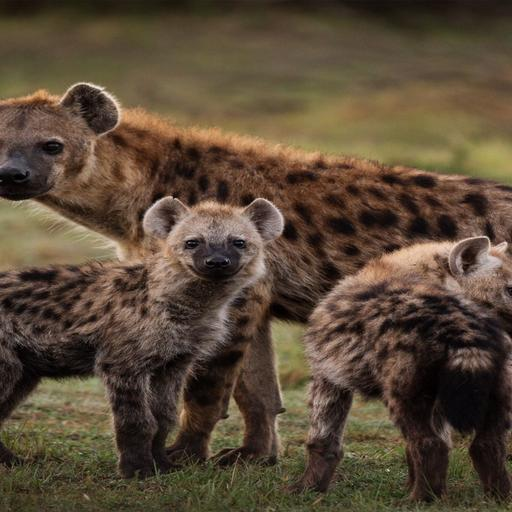Hyena: (0, 82, 512, 477), (0, 190, 288, 479), (299, 232, 512, 508)
